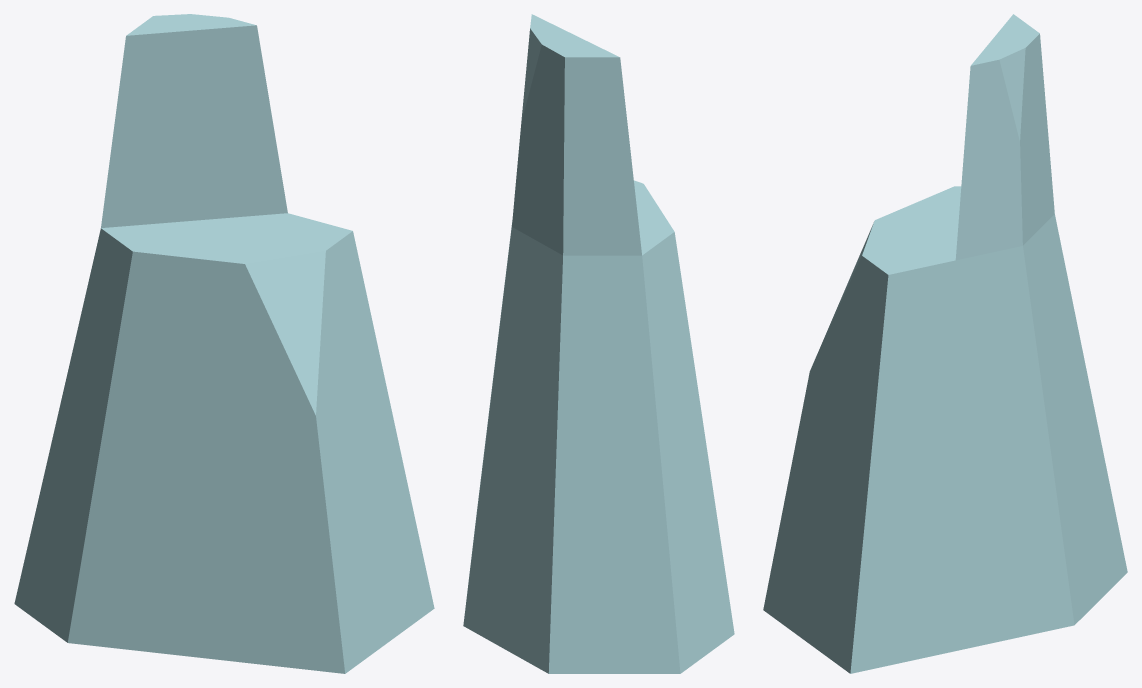
File: stone_tallD.dae
3 renders of one model, left to right at view 1: azimuth 30°, elevation 25°; view 2: azimuth 150°, elevation 25°; view 3: azimuth 270°, elevation 25°, orthographic. The views are drawn at different scales.
Visible parts, largest first — view 1: stone_tallD; view 2: stone_tallD; view 3: stone_tallD.
Part boxes in pixels (x1,y1,x2,y2): stone_tallD: [14, 14, 434, 673]; stone_tallD: [463, 14, 734, 673]; stone_tallD: [763, 14, 1127, 673].
Bounding box in the file's own units: 0.4428 × 0.7721 × 0.4615.
